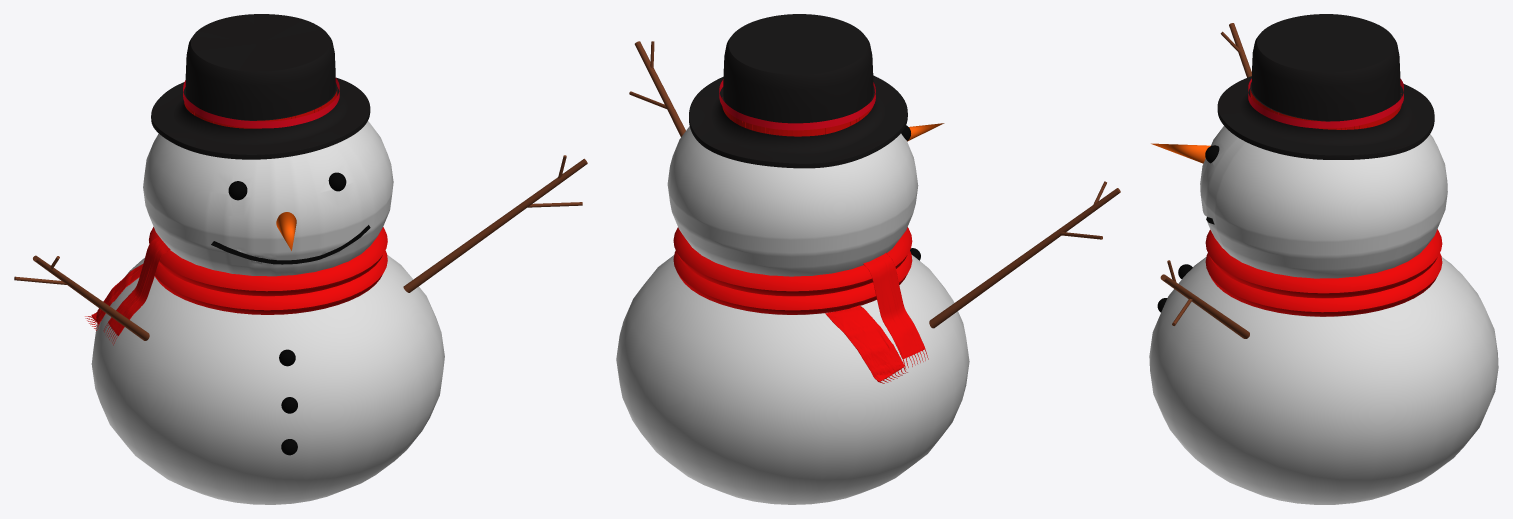
3 renders of one model, left to right at view 1: azimuth 30°, elevation 25°; view 2: azimuth 150°, elevation 25°; view 3: azimuth 270°, elevation 25°, orthographic.
Visible parts, largest first — view 1: Body_Sphere.001, Hat_Sphere.002, Scarf_Cube.001, Left_Hand_Cylinder.005, Right_Hand_Cylinder.006, Surface, Button_Sphere.005; view 2: Body_Sphere.001, Hat_Sphere.002, Scarf_Cube.001, Right_Hand_Cylinder.006, Surface, Left_Hand_Cylinder.005; view 3: Body_Sphere.001, Hat_Sphere.002, Surface, Left_Hand_Cylinder.005, Nose_Cone, Right_Hand_Cylinder.006.
Part boxes in pixels (box(x1,y1,x2,y2)): Body_Sphere.001: box(91, 121, 444, 504); Hat_Sphere.002: box(151, 14, 370, 159); Scarf_Cube.001: box(85, 236, 170, 345); Left_Hand_Cylinder.005: box(403, 155, 587, 292); Right_Hand_Cylinder.006: box(14, 255, 149, 340); Surface: box(183, 78, 339, 128); Button_Sphere.005: box(279, 349, 297, 455); Body_Sphere.001: box(616, 126, 969, 504); Hat_Sphere.002: box(689, 14, 907, 168); Scarf_Cube.001: box(825, 253, 928, 383); Right_Hand_Cylinder.006: box(929, 181, 1120, 328); Surface: box(719, 79, 875, 130); Left_Hand_Cylinder.005: box(629, 41, 685, 136); Body_Sphere.001: box(1149, 126, 1498, 504); Hat_Sphere.002: box(1217, 14, 1434, 159); Surface: box(1248, 78, 1403, 128); Left_Hand_Cylinder.005: box(1160, 260, 1249, 338); Nose_Cone: box(1151, 143, 1210, 163); Right_Hand_Cylinder.006: box(1220, 23, 1251, 77).
Bounding box in the file's own units: 5.47 × 4.45 × 3.21.
